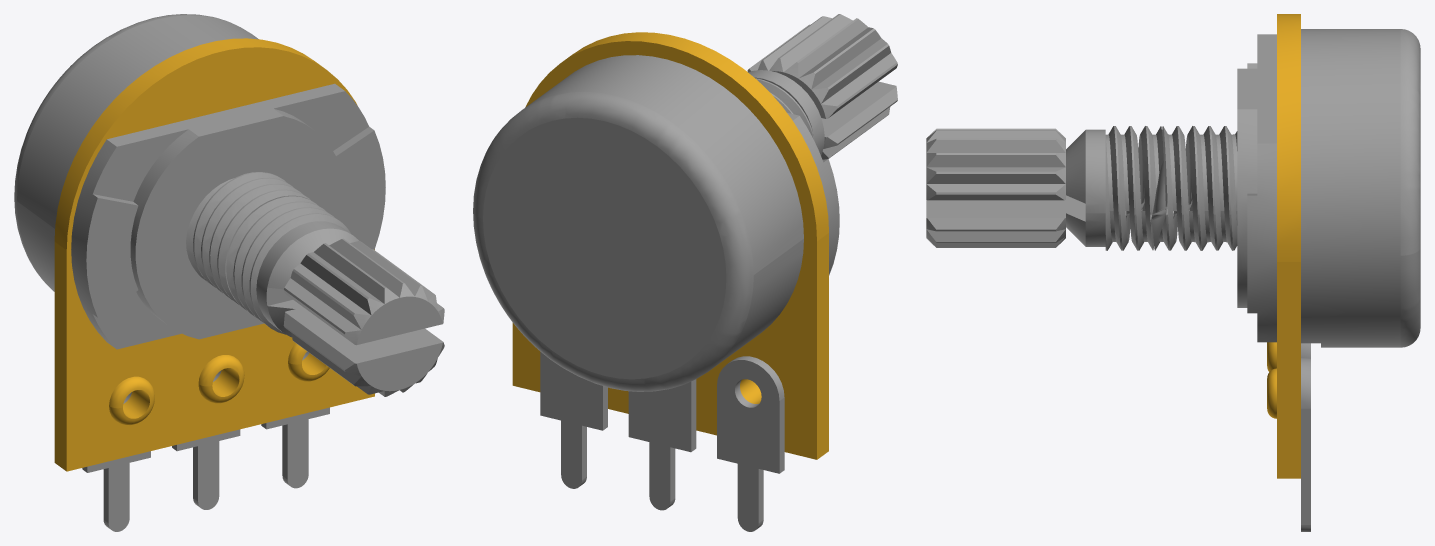
File: 562 10K Potentiometer.glb
3 renders of one model, left to right at view 1: azimuth 30°, elevation 25°; view 2: azimuth 150°, elevation 25°; view 3: azimuth 270°, elevation 25°, orthographic. The views are drawn at different scales.
Parts seen in each view (by area): view 1: 10K Potentiometer v2; view 2: 10K Potentiometer v2; view 3: 10K Potentiometer v2.
Part boxes in pixels (x1,y1,x2,y2): 10K Potentiometer v2: (14,14,444,531); 10K Potentiometer v2: (473,14,897,531); 10K Potentiometer v2: (926,14,1420,531).
Bounding box in the file's own units: 17.5 × 25.33 × 24.8.
